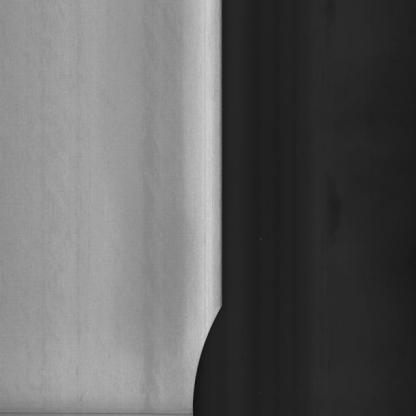crescent_gap: (180, 299, 237, 416)
